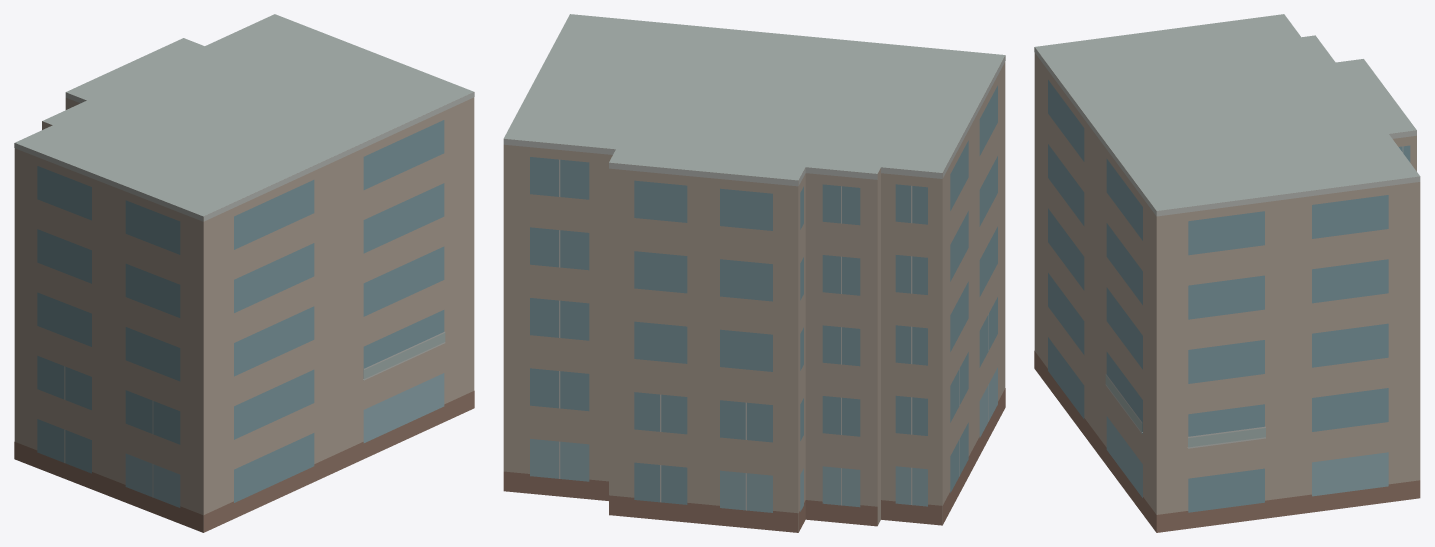
The model's file is survey-upis-32613228.glb.
3 views of the same model, side by side, from view 1: azimuth 30°, elevation 25°; view 2: azimuth 150°, elevation 25°; view 3: azimuth 270°, elevation 25° (orthographic). The views are drawn at different scales.
Parts seen in each view (by area): view 1: survey-upis-32613228.tmp; view 2: survey-upis-32613228.tmp; view 3: survey-upis-32613228.tmp.
Part boxes in pixels (x1,y1,x2,y2): survey-upis-32613228.tmp: [14, 14, 474, 532]; survey-upis-32613228.tmp: [503, 14, 1005, 532]; survey-upis-32613228.tmp: [1034, 14, 1420, 532].
Bounding box in the file's own units: 19.06 × 14.5 × 15.77.
